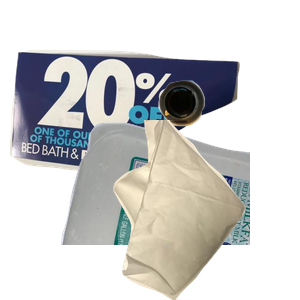glass: (156, 78, 300, 197)
paper: (10, 41, 242, 207)
plastic: (58, 120, 298, 300)
trash: (111, 120, 300, 300)
